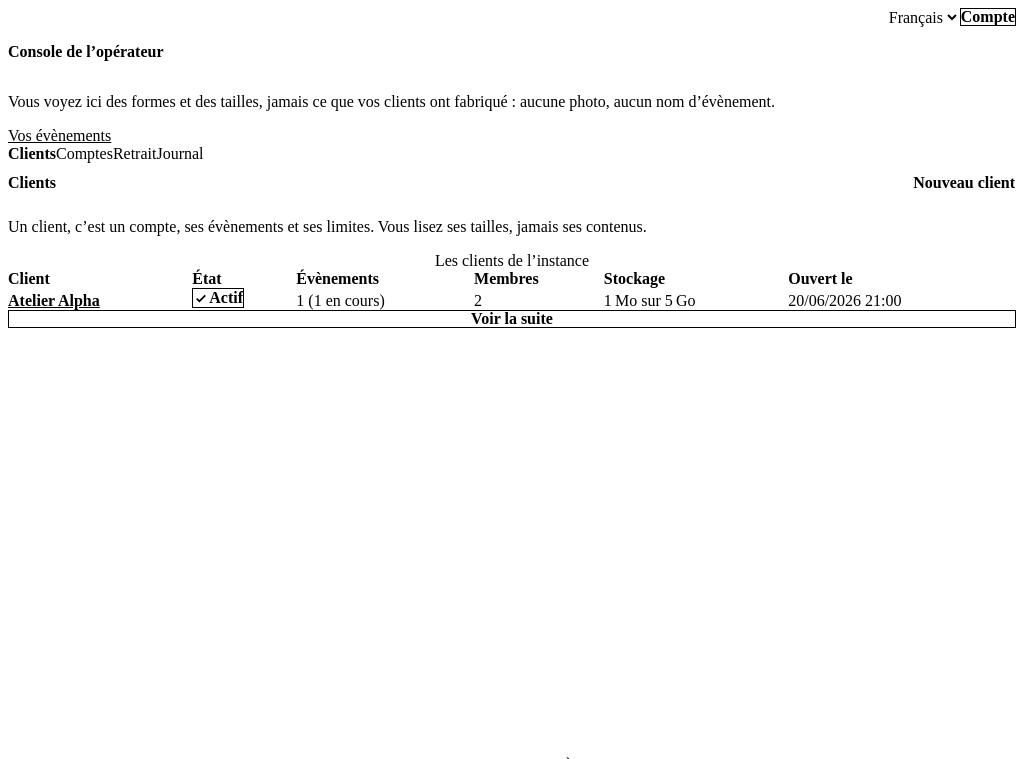
it: the console’s clients › says the next page could not be read without taking away the rows already read
The width and height of the screenshot is (1024, 759).
Click the button "Voir la suite" at (512, 319), box [8, 310, 1016, 328]
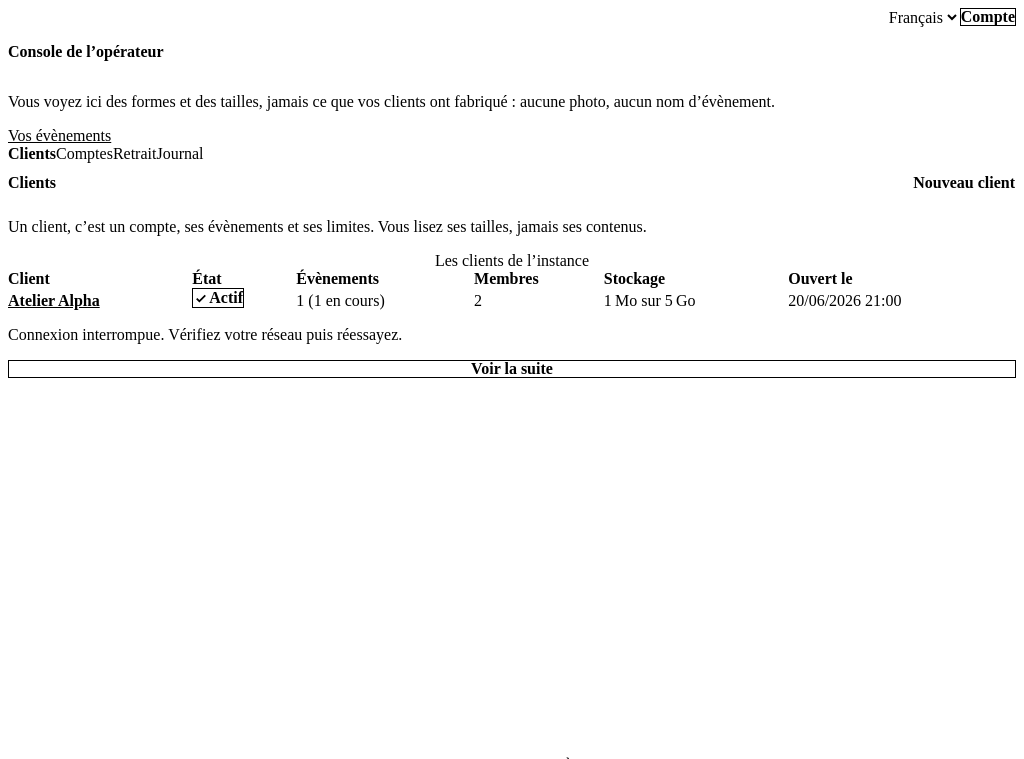
Expected: the link "Atelier Alpha" is shown, [8, 292, 100, 309]
Result: the message reads "Connexion interrompue. Vérifiez votre réseau puis réessayez." at [8, 326, 402, 343]
